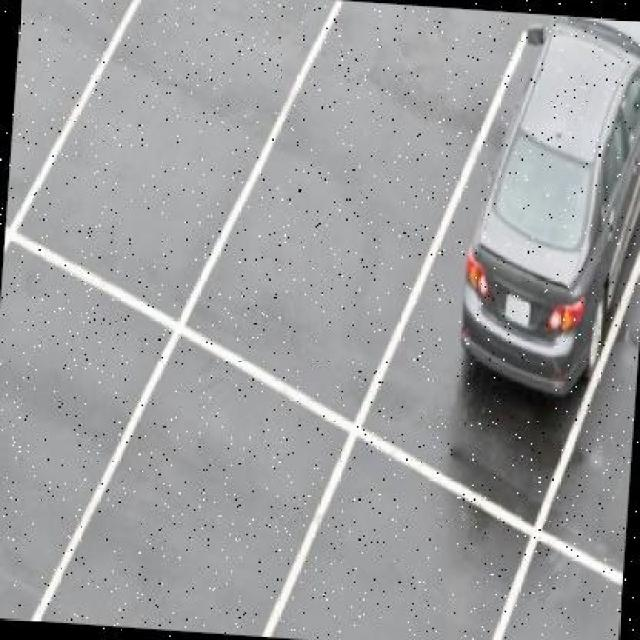Car: (479, 19, 640, 378)
Empty: (286, 47, 443, 321), (98, 27, 246, 304), (349, 481, 495, 640), (141, 461, 273, 618), (1, 327, 83, 524), (22, 1, 85, 136)
